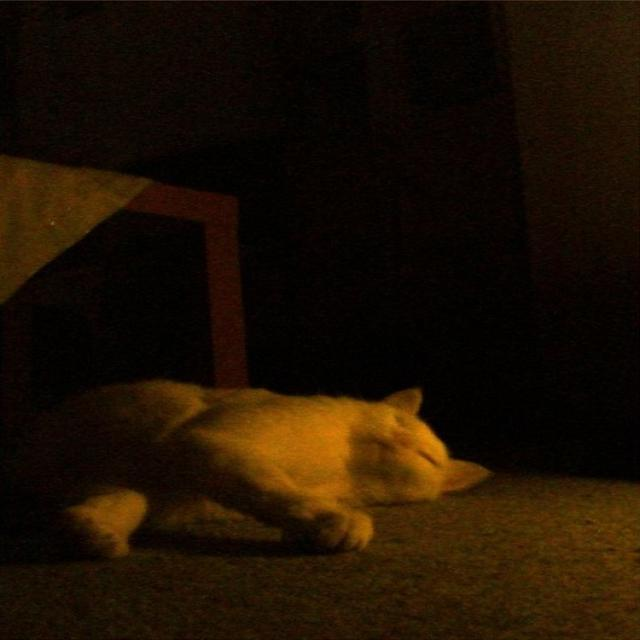Cat: (27, 343, 488, 565)
Table: (0, 141, 287, 456)
